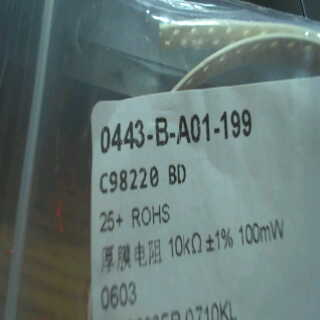10kR: (166, 232, 205, 258)
